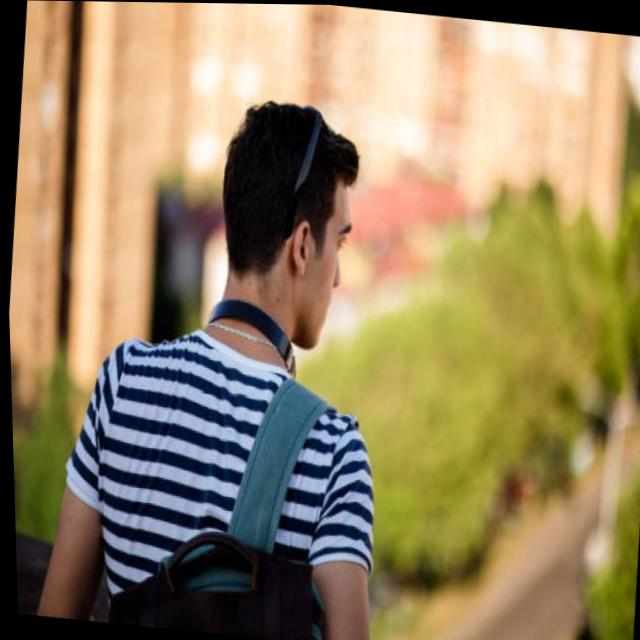no helmet: (182, 67, 370, 396)
